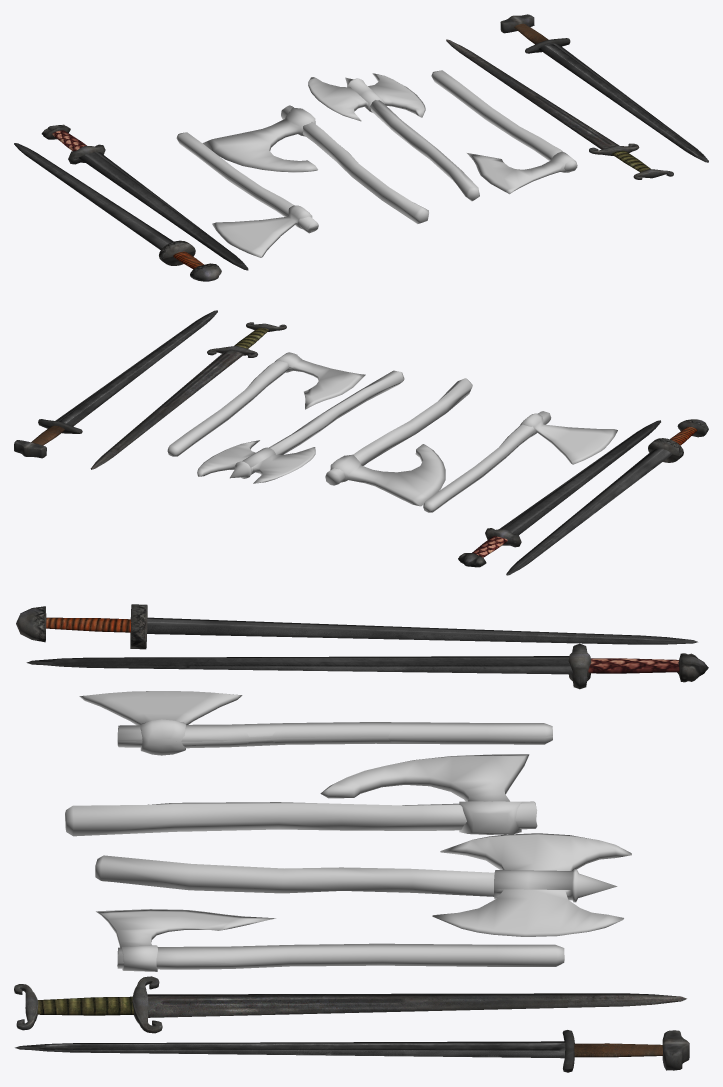
Rendered from weapon3.fbx.
The picture shows the model from 3 angles, top to bottom: view 1: azimuth 30°, elevation 25°; view 2: azimuth 150°, elevation 25°; view 3: azimuth 270°, elevation 25°; orthographic projection. The views are drawn at different scales.
Visible parts, largest first — view 1: weapon2, weapon1; view 2: weapon2, weapon1; view 3: weapon2, weapon1.
Part boxes in pixels (left/top/right/bottom): weapon2: left=176, top=70, right=577, bottom=257; weapon1: left=14, top=14, right=708, bottom=281; weapon2: left=167, top=352, right=617, bottom=512; weapon1: left=14, top=310, right=708, bottom=575; weapon2: left=65, top=691, right=631, bottom=971; weapon1: left=14, top=604, right=708, bottom=1072.
Bounding box in the file's own units: 29.61 × 1.14 × 19.44.
